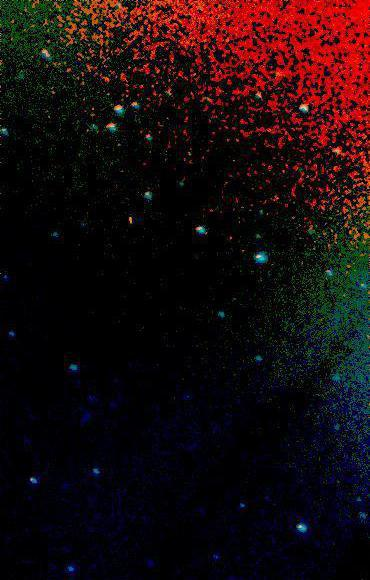star: (322, 470, 352, 500)
